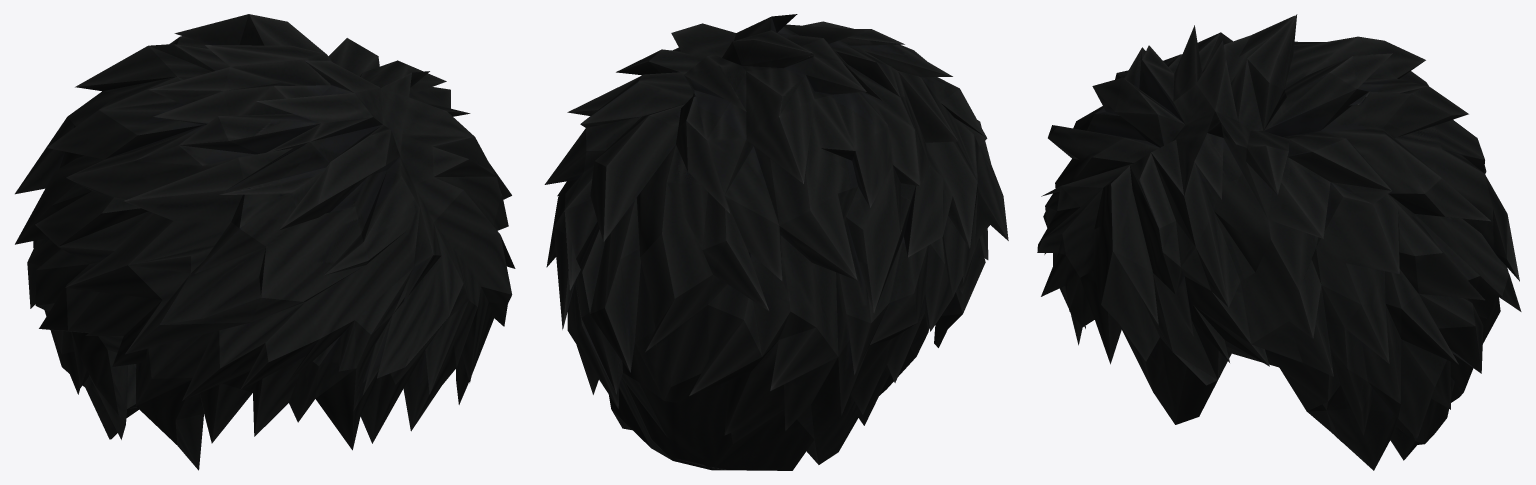
Rendered from hair.glb.
3 views of the same model, side by side, from view 1: azimuth 30°, elevation 25°; view 2: azimuth 150°, elevation 25°; view 3: azimuth 270°, elevation 25° (orthographic). The views are drawn at different scales.
Parts seen in each view (by area): view 1: Mesh_0; view 2: Mesh_0; view 3: Mesh_0.
Part boxes in pixels (x1,y1,x2,y2): Mesh_0: (15,14,515,470); Mesh_0: (544,14,1008,470); Mesh_0: (1037,14,1521,470).
Bounding box in the file's own units: 1.8 × 1.65 × 1.9.
Materials: 1 (1 with a texture image).
